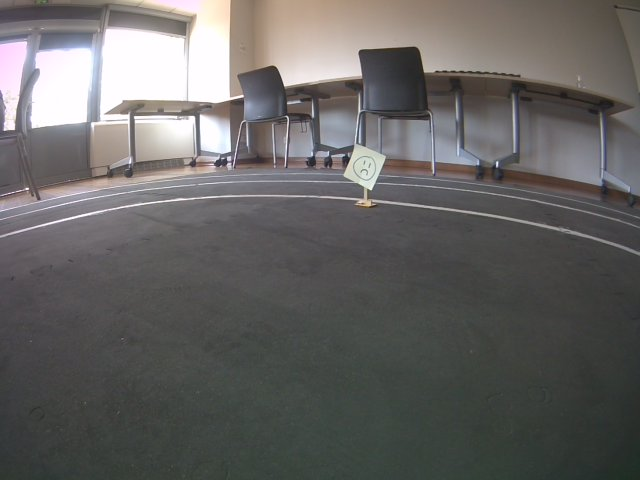Smiley: (341, 142, 387, 190)
